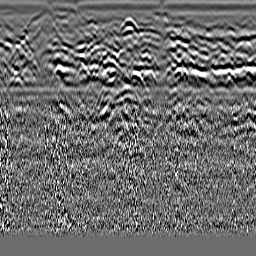cavity: (119, 15, 138, 37)
